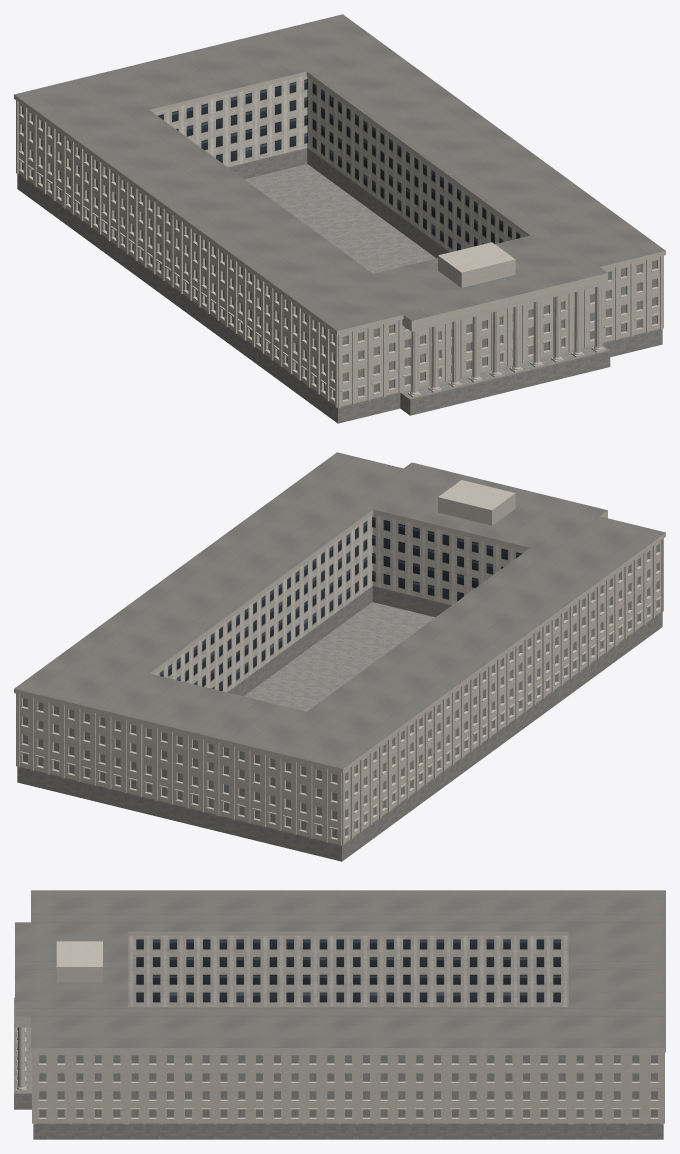
File: longworth_house.glb
3 renders of one model, top to bottom at view 1: azimuth 30°, elevation 25°; view 2: azimuth 150°, elevation 25°; view 3: azimuth 270°, elevation 25°, orthographic.
Parts seen in each view (by area): view 1: longworth_house; view 2: longworth_house; view 3: longworth_house.
Part boxes in pixels (x1,y1,x2,y2): longworth_house: (14,14,665,423); longworth_house: (14,452,665,861); longworth_house: (14,890,665,1139).
Size of the model in its own units: 80.49 by 25.59 by 141.
Materials: 4 (4 with a texture image).
